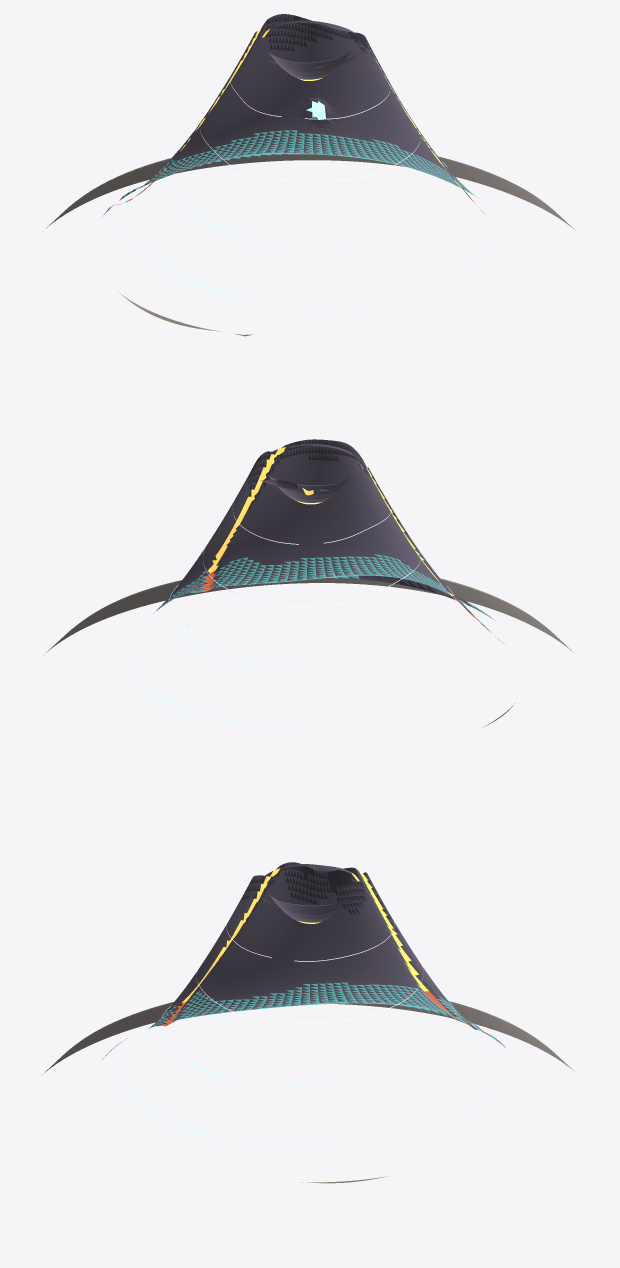
Rendered from volcano_island_near.glb.
3 views of the same model, one above another, from view 1: azimuth 30°, elevation 25°; view 2: azimuth 150°, elevation 25°; view 3: azimuth 270°, elevation 25° (orthographic).
Parts seen in each view (by area): view 1: volcano_island_near; view 2: volcano_island_near; view 3: volcano_island_near.
Part boxes in pixels (x1,y1,x2,y2): volcano_island_near: (42,14,578,336); volcano_island_near: (43,439,572,731); volcano_island_near: (41,862,575,1183).
Size of the model in its own units: 152 by 71.16 by 152.
